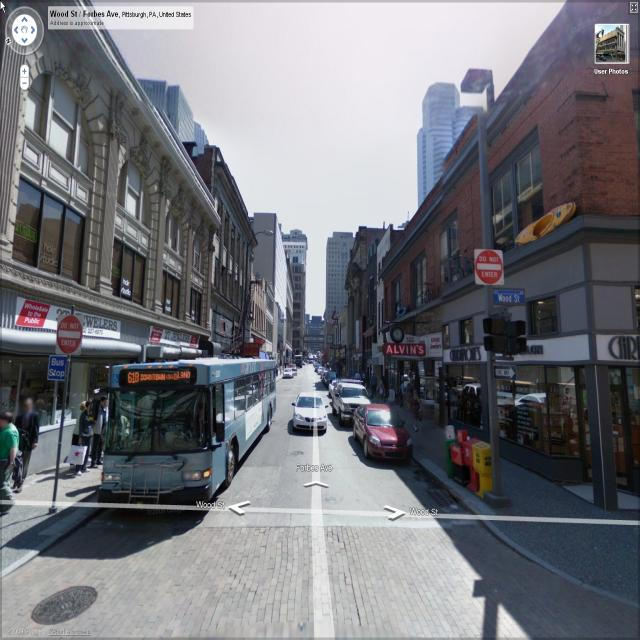b_1: (378, 18, 640, 409), (0, 14, 214, 362), (206, 148, 252, 365), (414, 77, 490, 183), (140, 66, 220, 160), (342, 227, 388, 376), (323, 229, 362, 344), (288, 228, 314, 366), (245, 269, 275, 372)
